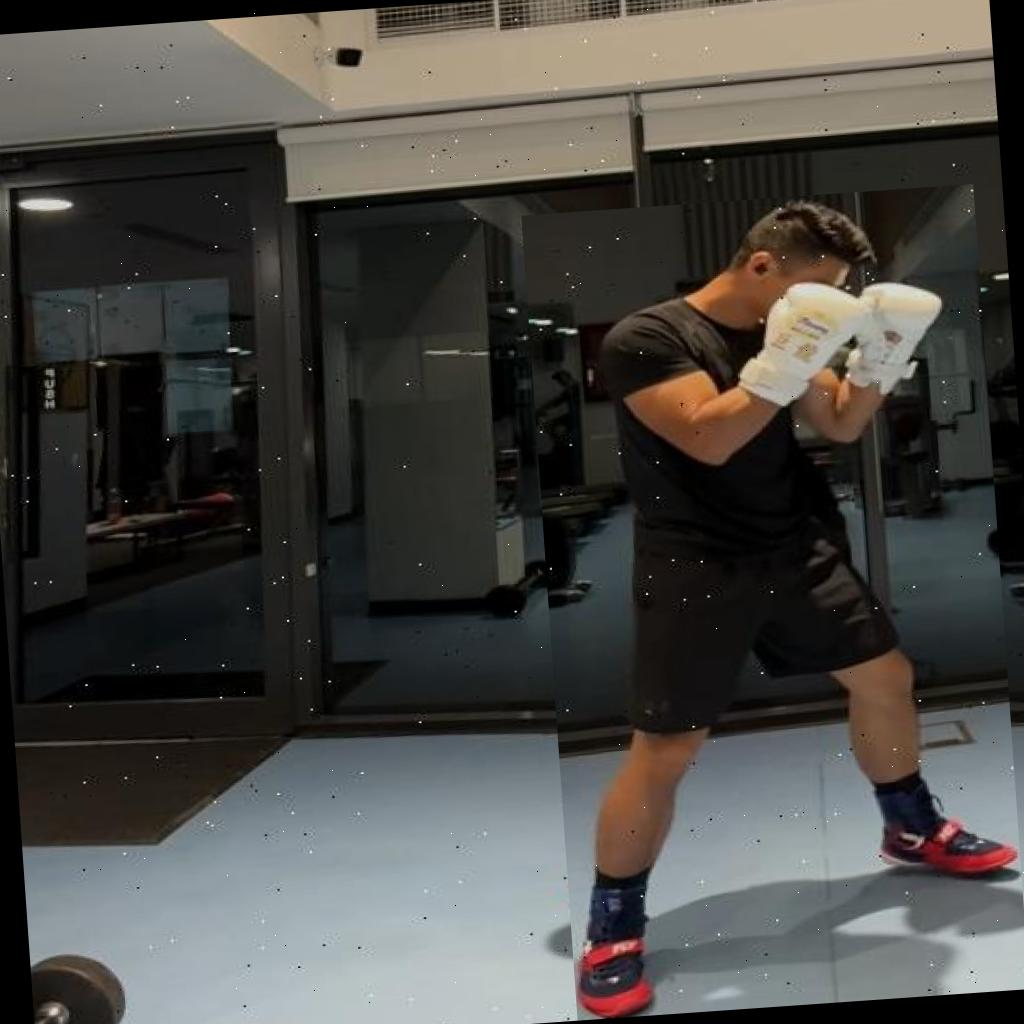no punch: (521, 184, 1024, 1021)
